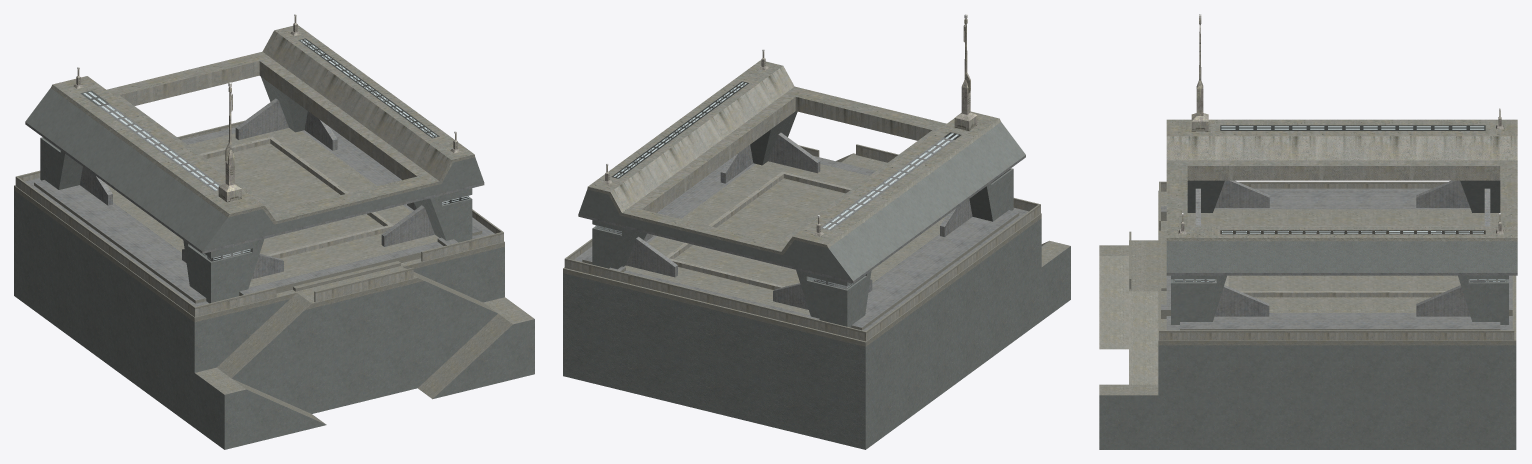
Rendered from ply_corl_shuttleport_s01_l0.fbx.
3 renders of one model, left to right at view 1: azimuth 30°, elevation 25°; view 2: azimuth 150°, elevation 25°; view 3: azimuth 270°, elevation 25°, orthographic. The views are drawn at different scales.
Visible parts, largest first — view 1: mesh_node; view 2: mesh_node; view 3: mesh_node.
Part boxes in pixels (x1,y1,x2,y2): mesh_node: [14, 14, 534, 449]; mesh_node: [563, 14, 1070, 449]; mesh_node: [1099, 14, 1517, 449].
Bounding box in the file's own units: 31.92 × 31.06 × 37.63.
